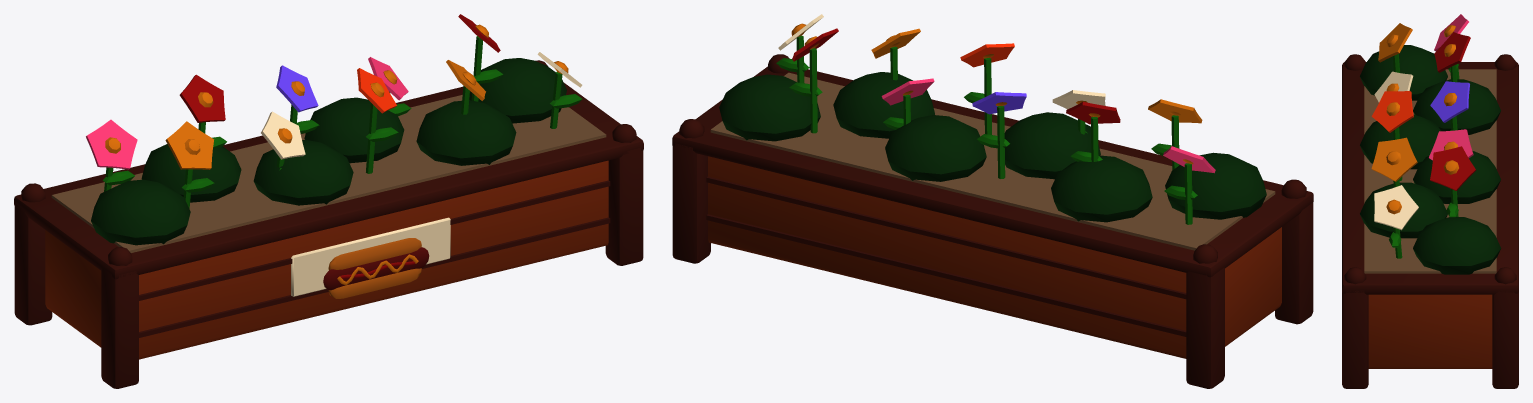
The model's file is Planter.obj.
3 renders of one model, left to right at view 1: azimuth 30°, elevation 25°; view 2: azimuth 150°, elevation 25°; view 3: azimuth 270°, elevation 25°, orthographic. The views are drawn at different scales.
Parts seen in each view (by area): view 1: Planter; view 2: Planter; view 3: Planter.
Part boxes in pixels (x1=…): Planter: x1=14, y1=14, x2=643, y2=388; Planter: x1=672, y1=14, x2=1313, y2=388; Planter: x1=1342, y1=14, x2=1518, y2=388.
Bounding box in the file's own units: 6 × 2.44 × 2.
